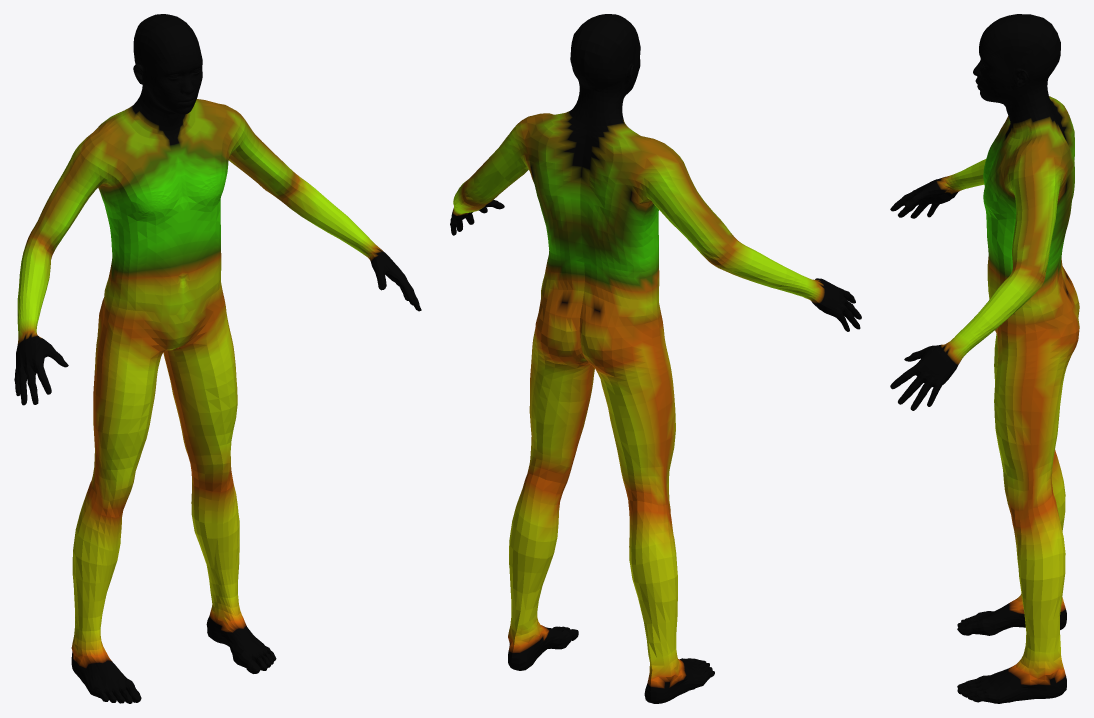
File: male-average.glb
The picture shows the model from 3 angles, left to right: view 1: azimuth 30°, elevation 25°; view 2: azimuth 150°, elevation 25°; view 3: azimuth 270°, elevation 25°; orthographic projection.
Parts seen in each view (by area): view 1: world; view 2: world; view 3: world.
Boxes of the visible parts, x1,y1,x2,y2 form: world: [14, 14, 421, 703]; world: [450, 14, 861, 703]; world: [890, 14, 1079, 703].
Size of the model in its own units: 1.26 by 1.96 by 0.5205.
